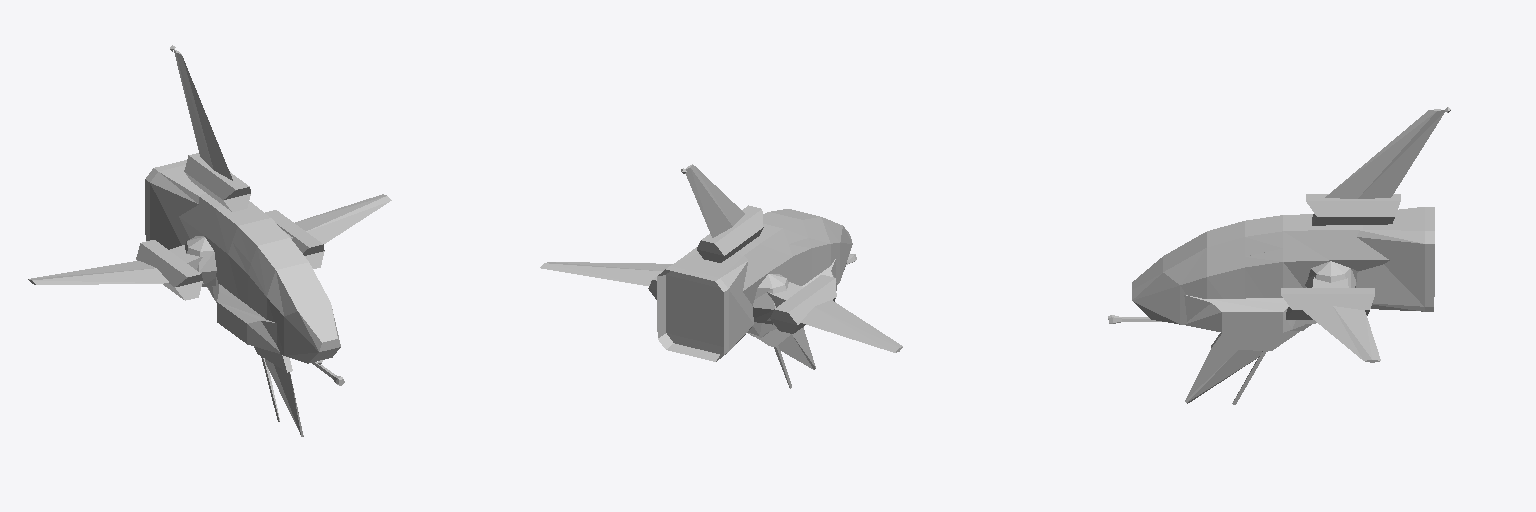
Rendered from fig05ops1_static.obj.
3 views of the same model, side by side, from view 1: azimuth 30°, elevation 25°; view 2: azimuth 150°, elevation 25°; view 3: azimuth 270°, elevation 25° (orthographic).
Visible parts, largest first — view 1: frm-fuselg, frm-rwing1, frm-rthruster3, frm-finzz1, frm-lwing1, frm-lthruster3, frm-rthruster1, frm-landgr2; view 2: frm-fuselg, frm-rwing1, frm-finzz1, frm-rthruster3, frm-lwing1, frm-rthruster1, frm-landgr2; view 3: frm-fuselg, frm-finzz1, frm-lwing1, frm-lthruster3, frm-landgr1, frm-lthruster1.
Part boxes in pixels (left/top/right/bottom): frm-fuselg: left=145, top=153, right=340, bottom=372; frm-rwing1: left=28, top=261, right=168, bottom=284; frm-rthruster3: left=136, top=240, right=202, bottom=300; frm-finzz1: left=174, top=49, right=232, bottom=180; frm-lwing1: left=295, top=194, right=391, bottom=243; frm-lthruster3: left=265, top=210, right=324, bottom=268; frm-rthruster1: left=185, top=236, right=216, bottom=286; frm-landgr2: left=265, top=359, right=302, bottom=436; frm-fuselg: left=657, top=205, right=852, bottom=361; frm-rwing1: left=800, top=300, right=902, bottom=352; frm-finzz1: left=685, top=164, right=744, bottom=237; frm-rthruster3: left=770, top=275, right=836, bottom=333; frm-lwing1: left=540, top=262, right=672, bottom=285; frm-rthruster1: left=753, top=274, right=788, bottom=324; frm-landgr2: left=778, top=328, right=815, bottom=369; frm-fuselg: left=1132, top=194, right=1434, bottom=350; frm-finzz1: left=1325, top=109, right=1445, bottom=198; frm-lwing1: left=1303, top=306, right=1380, bottom=362; frm-lthruster3: left=1281, top=288, right=1374, bottom=319; frm-landgr1: left=1185, top=348, right=1267, bottom=403; frm-lthruster1: left=1305, top=261, right=1355, bottom=287.
Bounding box in the file's own units: 3.55 × 2.86 × 2.97.